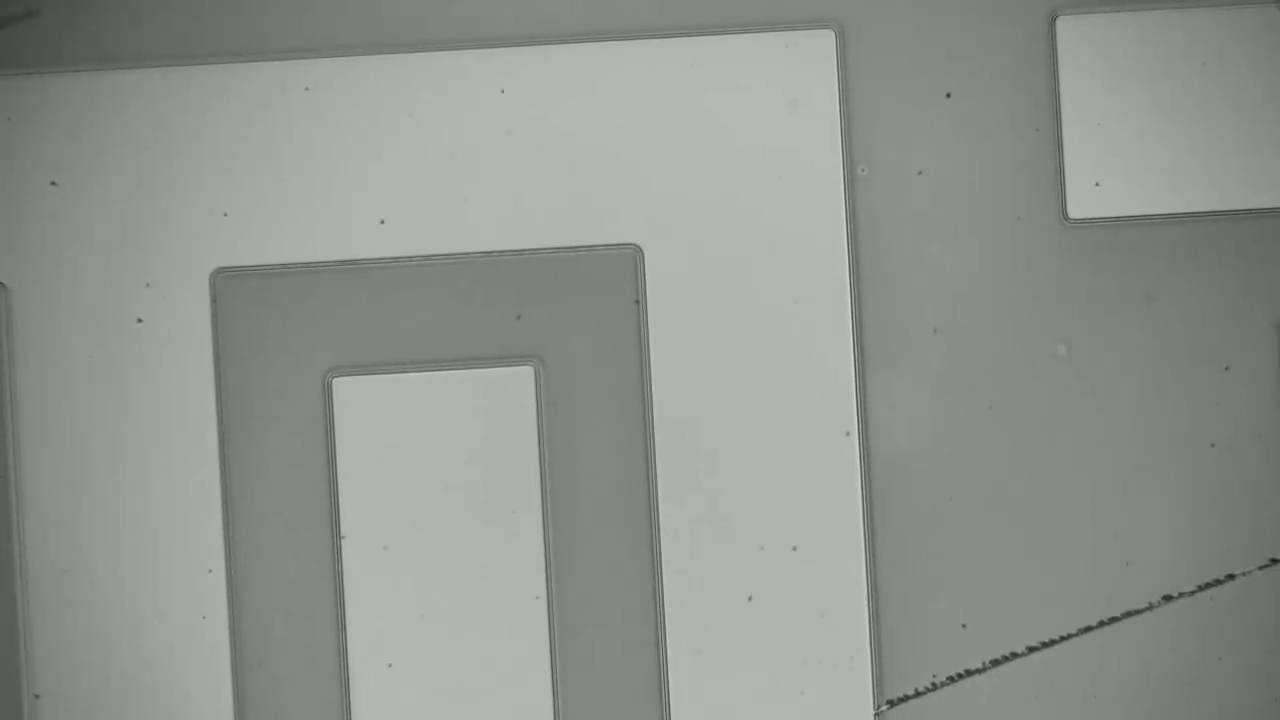scratch: (889, 563, 1267, 704)
